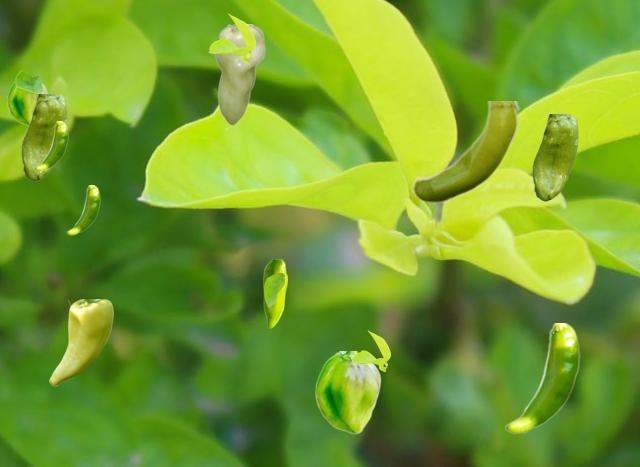green_chili: (411, 101, 519, 201), (504, 323, 579, 433), (49, 299, 112, 385), (315, 351, 380, 433), (214, 24, 264, 124), (21, 94, 66, 180), (532, 114, 577, 200), (7, 81, 46, 125), (34, 121, 67, 170), (66, 185, 99, 234), (263, 259, 286, 327)
